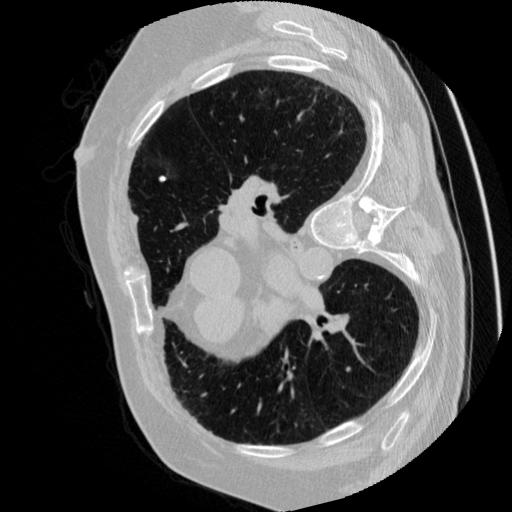nodule: (155, 170, 170, 185)
